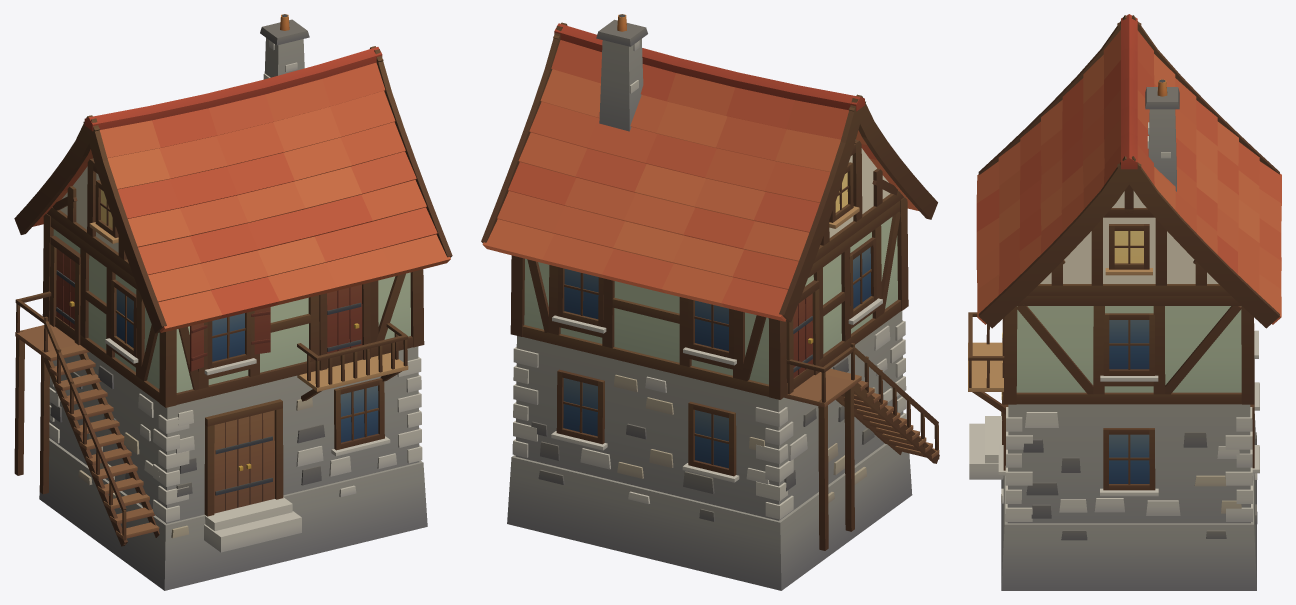
File: house_11_stair_house.glb
3 views of the same model, side by side, from view 1: azimuth 30°, elevation 25°; view 2: azimuth 150°, elevation 25°; view 3: azimuth 270°, elevation 25° (orthographic). The views are drawn at different scales.
Parts seen in each view (by area): view 1: house_11_stair_house; view 2: house_11_stair_house; view 3: house_11_stair_house.
Boxes of the visible parts, x1,y1,x2,y2 form: house_11_stair_house: (14,14,452,590); house_11_stair_house: (481,14,939,590); house_11_stair_house: (968,14,1281,590).
Size of the model in its own units: 27.59 by 39.78 by 23.66.
Materials: 1 (1 with a texture image).
